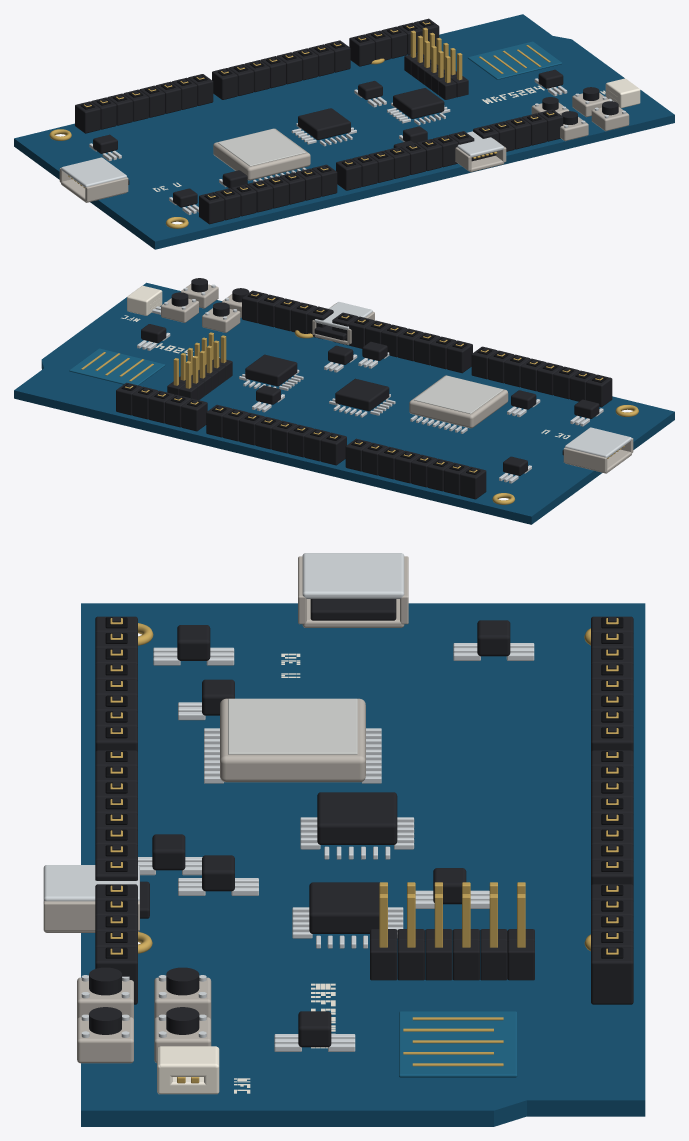
The model's file is boards-14.glb.
The picture shows the model from 3 angles, top to bottom: view 1: azimuth 30°, elevation 25°; view 2: azimuth 150°, elevation 25°; view 3: azimuth 270°, elevation 25°; orthographic projection. The views are drawn at different scales.
Parts seen in each view (by area): view 1: board, headers, debug, buttons, usb, antenna, radio, native-usb, nfc; view 2: board, headers, debug, buttons, usb, antenna, radio, native-usb, nfc; view 3: board, headers, debug, buttons, usb, antenna, radio, native-usb, nfc.
Boxes of the visible parts, x1,y1,x2,y2 form: board: [14, 14, 674, 249]; headers: [75, 18, 563, 224]; debug: [213, 128, 310, 182]; buttons: [531, 87, 629, 141]; usb: [59, 157, 129, 202]; antenna: [468, 41, 562, 79]; radio: [387, 88, 450, 125]; native-usb: [455, 131, 506, 172]; nfc: [605, 78, 640, 108]; board: [14, 282, 674, 524]; headers: [116, 290, 612, 499]; debug: [409, 375, 508, 433]; buttons: [161, 278, 249, 332]; usb: [562, 427, 633, 473]; antenna: [69, 348, 165, 385]; radio: [239, 354, 303, 390]; native-usb: [312, 302, 374, 344]; nfc: [127, 285, 162, 315]; board: [81, 603, 645, 1126]; headers: [95, 616, 633, 1004]; debug: [204, 698, 381, 783]; buttons: [77, 967, 211, 1063]; usb: [298, 553, 408, 627]; antenna: [399, 1011, 517, 1077]; radio: [292, 882, 403, 948]; native-usb: [43, 865, 149, 932]; nfc: [157, 1046, 219, 1094].
Size of the model in its own units: 4.48 by 0.3825 by 2.18.
